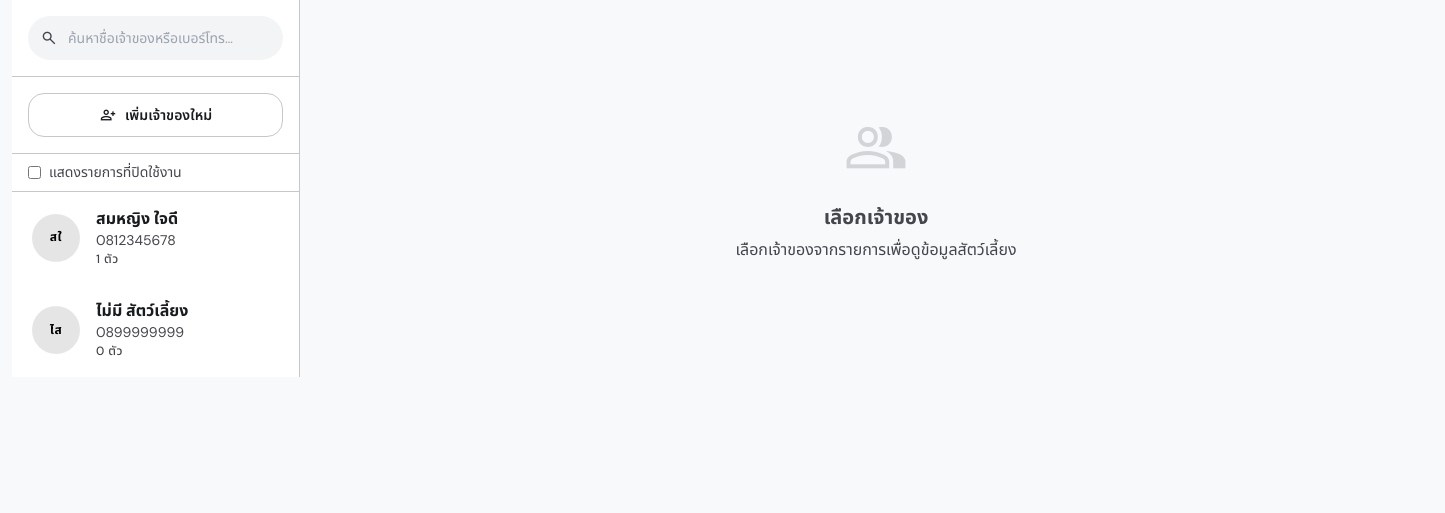
Scenario: ClinicPets — Thai i18n (I18N-12): owner detail › (a) delete failure falls back to the Thai "Failed to delete" message when the server sends none
Click the text "สมหญิง ใจดี".
click(137, 219)  # box 96,208 -> 178,230
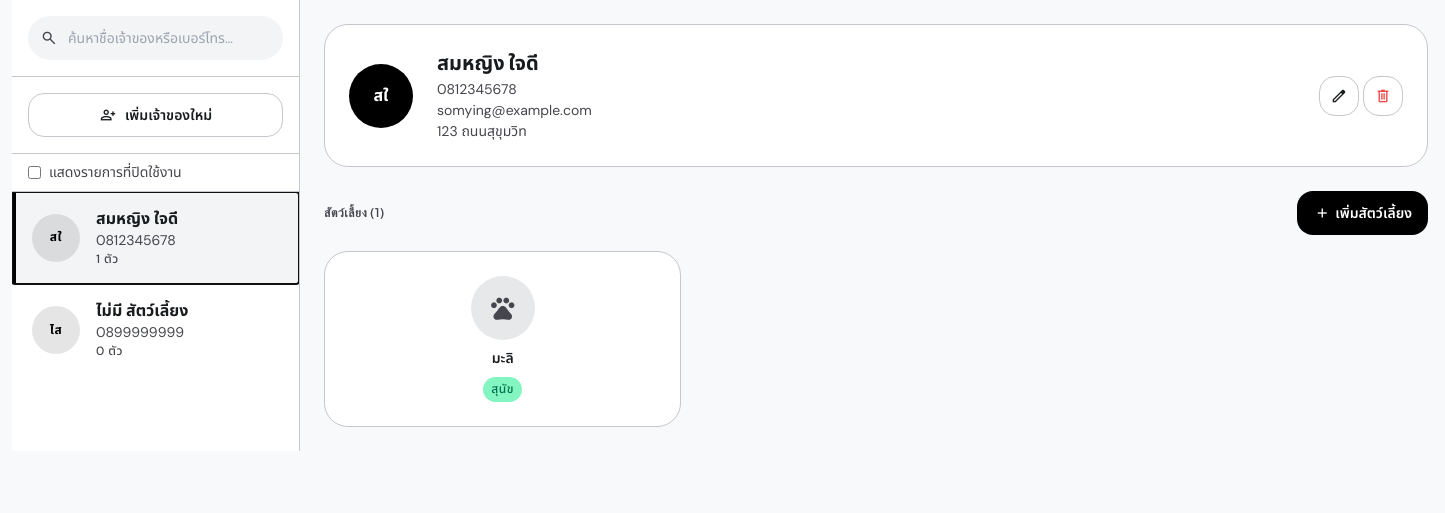
Expected: the text "somying@example.com" is shown, 437,101 -> 592,119
Click the button titled "ลบ".
click(1383, 96)  # box 1363,76 -> 1403,116
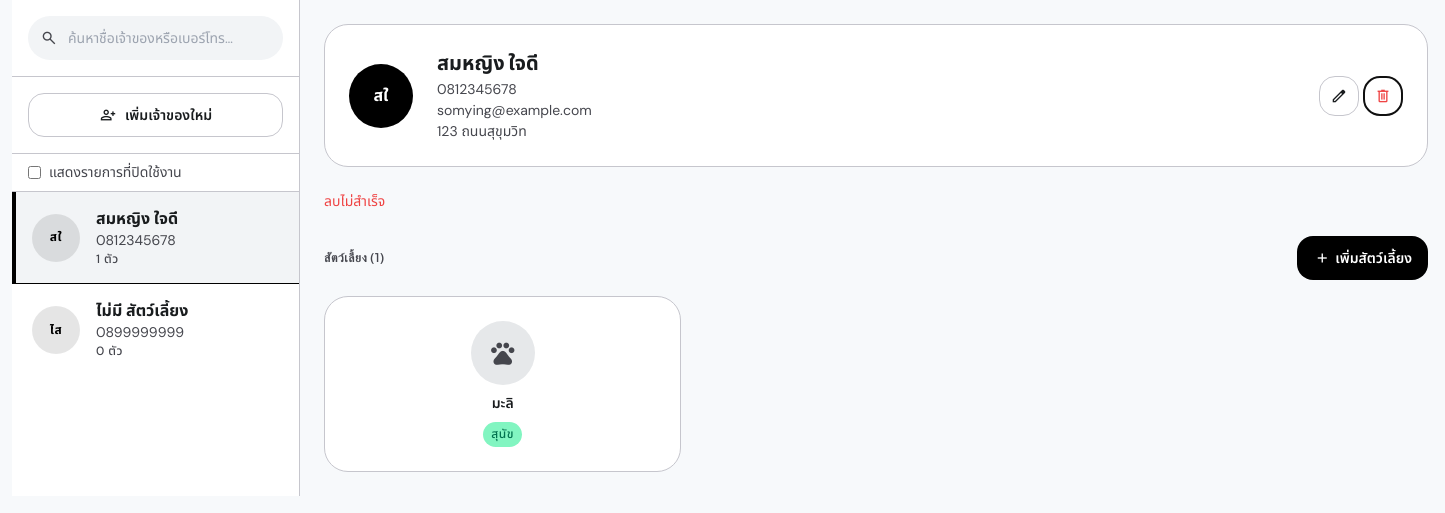
Expected: the text "ลบไม่สำเร็จ" is shown, 324,192 -> 385,210
